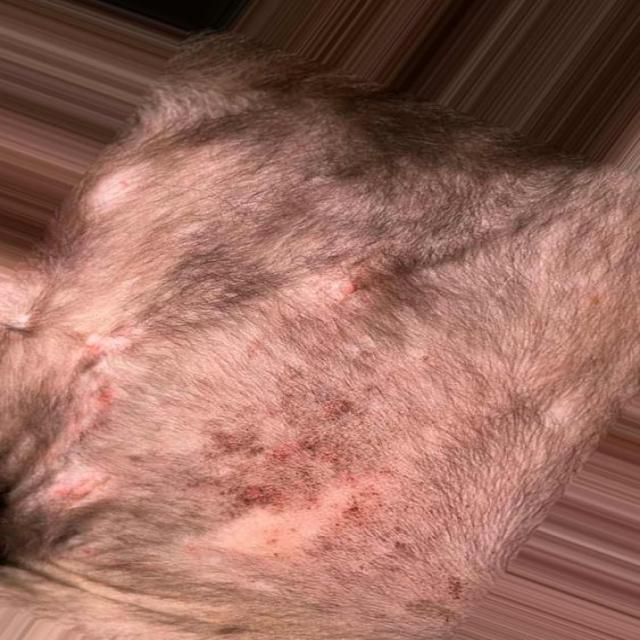di ung bo chet: (53, 131, 610, 625)
